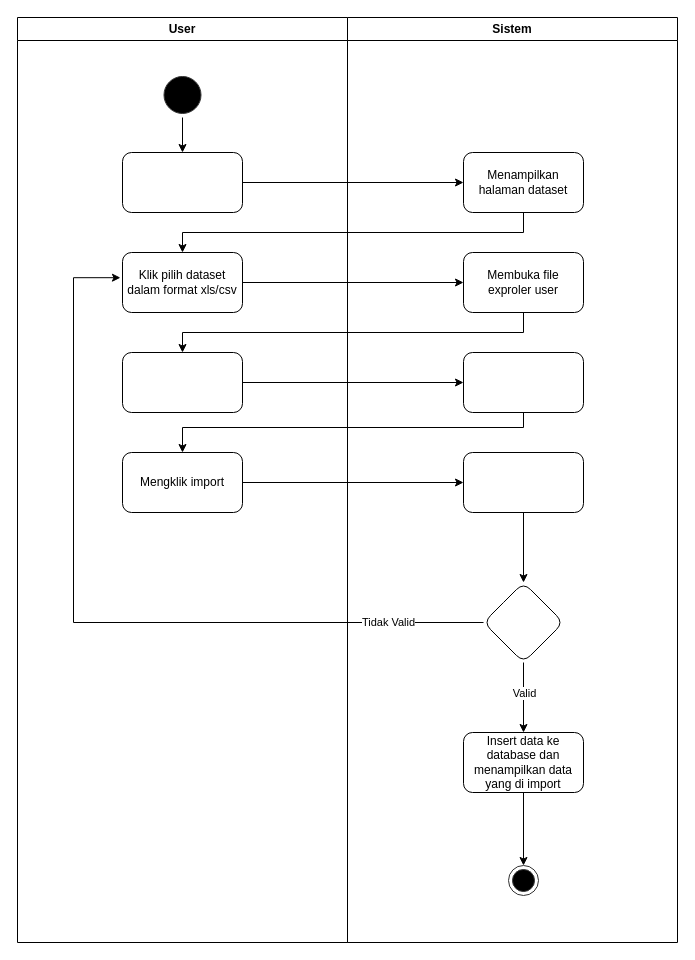
The diagram is 695 pixels wide and 960 high, and some of its shapes have lost their labels. Each missing label, with the centre of its shape:
"Klik menu dataset" goes at (182,182).
"Memilih file dataset" goes at (182,382).
"Memvalidasi file" goes at (523,482).
"Mengunggah file ke sistem" goes at (523,382).
